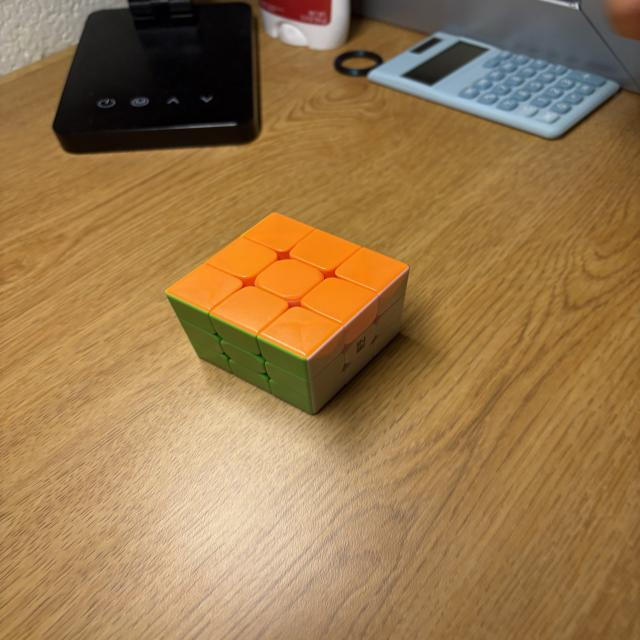Rubiks Cube: (164, 214, 408, 415)
